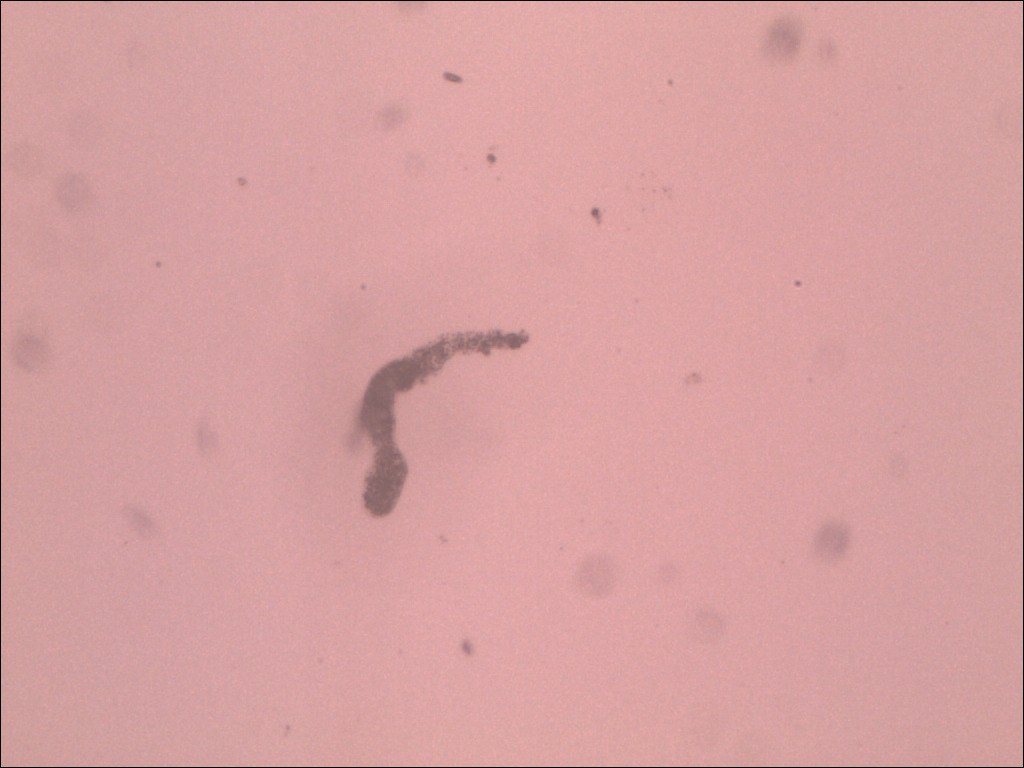amoeba: (350, 324, 551, 527)
